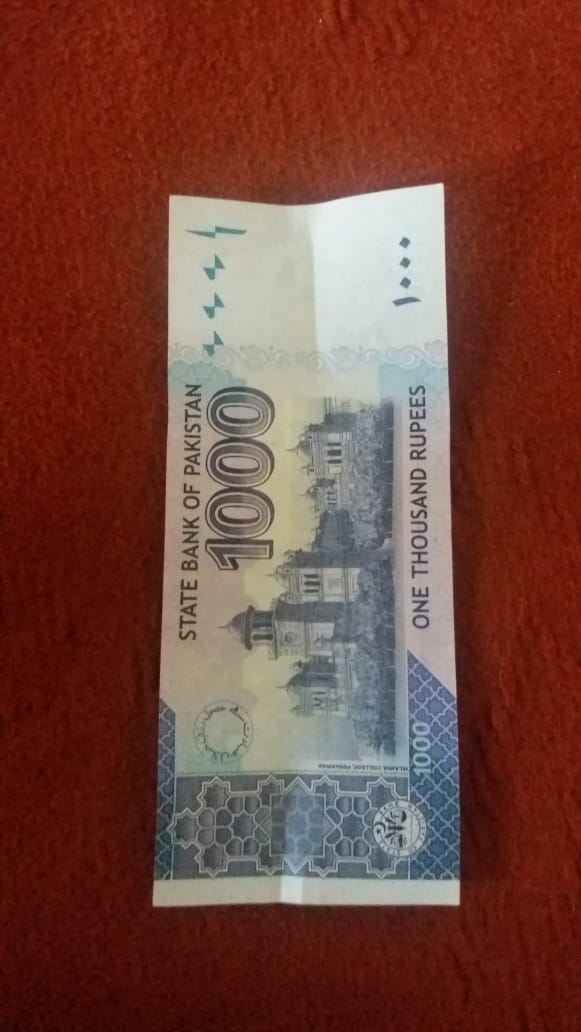1000 rupee: (141, 158, 486, 931)
